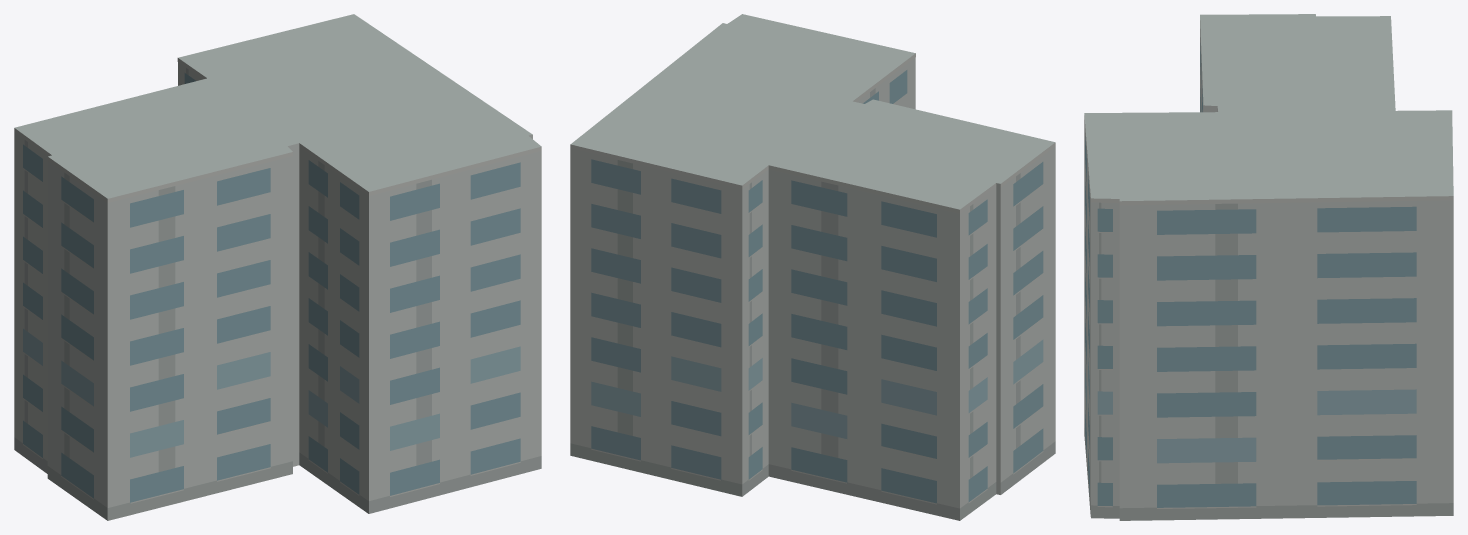
The model's file is survey-upis-32921144.glb.
3 views of the same model, side by side, from view 1: azimuth 30°, elevation 25°; view 2: azimuth 150°, elevation 25°; view 3: azimuth 270°, elevation 25° (orthographic). The views are drawn at different scales.
Parts seen in each view (by area): view 1: survey-upis-32921144.tmp; view 2: survey-upis-32921144.tmp; view 3: survey-upis-32921144.tmp.
Boxes of the visible parts, left/top/right/bottom form: survey-upis-32921144.tmp: left=14, top=14, right=541, bottom=520; survey-upis-32921144.tmp: left=570, top=14, right=1055, bottom=520; survey-upis-32921144.tmp: left=1084, top=14, right=1453, bottom=520.
Bounding box in the file's own units: 23.23 × 18.5 × 19.38.
